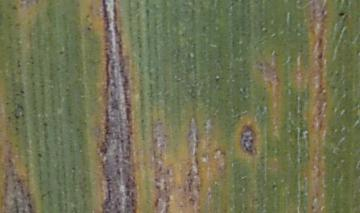tarspot: (339, 11, 345, 18)
